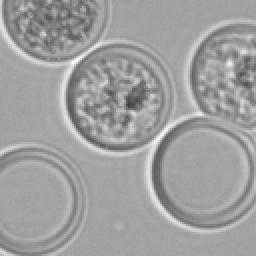picoshell: (60, 40, 174, 154), (146, 112, 254, 232), (0, 144, 86, 254), (184, 20, 254, 140)
